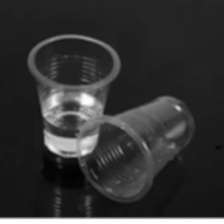glass: (23, 19, 124, 166), (73, 90, 196, 205)
